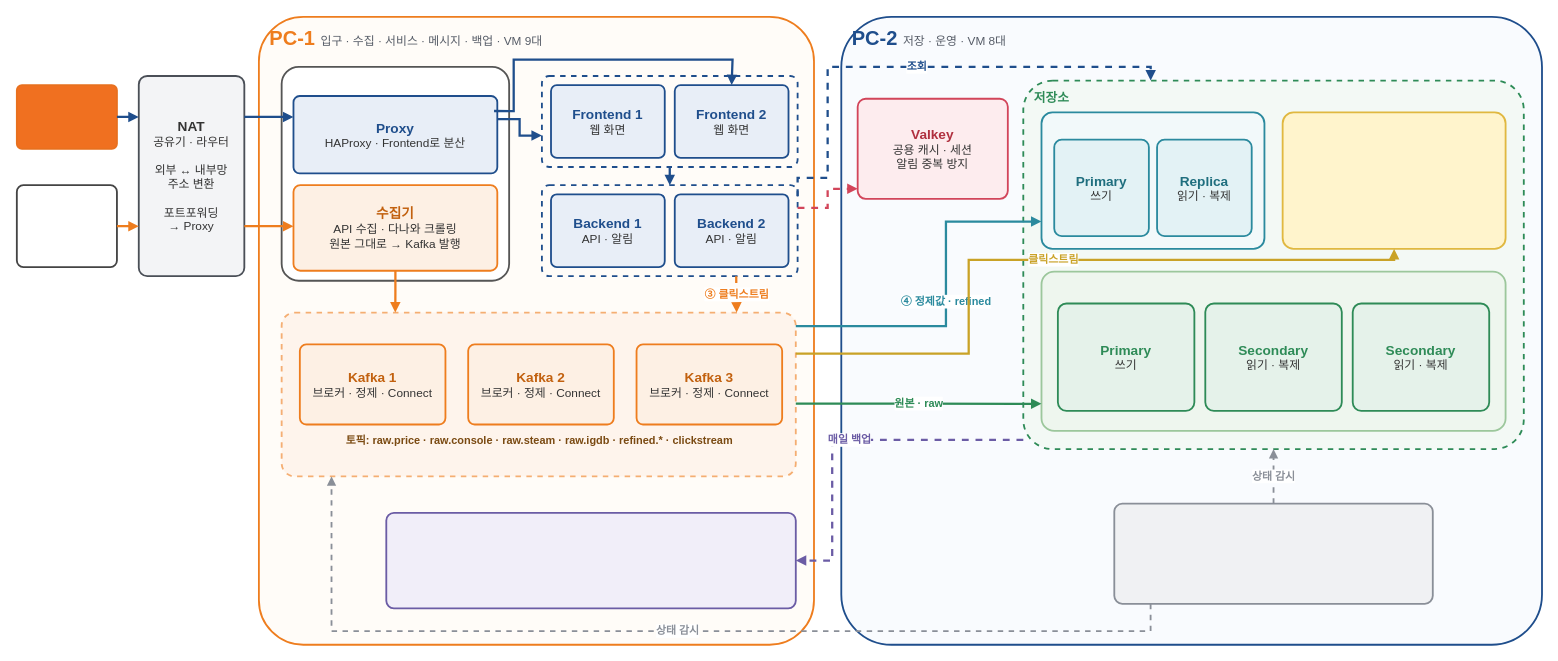
The diagram is 1558 pixels wide and 661 high, and some of its shapes have lost their labels. The shapes that lost their labels are listed below. From the top down, each one's box as (x1, y1, x2, y2) in pixels, then its label:
(15, 84, 117, 149): 사용자
(280, 66, 510, 281): Proxy · 수집 서버
(1040, 111, 1265, 249): MariaDB · 가격 이력 · 사용자 · 알림
(1281, 111, 1506, 249): ELK Elasticsearch + Kibana 게임 검색 · 클릭스트림 로그
(15, 184, 117, 268): 외부 API·사이트 ITAD · Steam IGDB · 다나와
(1040, 270, 1506, 431): MongoDB 클러스터 (P-S-S) · 원본 JSON · 리뷰
(280, 311, 796, 477): Kafka Cluster · 브로커 3대 · 정제 프로그램 · Kafka Connect
(385, 511, 796, 609): 백업 서버 MariaDB · MongoDB 매일 새벽 덤프 · 7일 보관 설정 파일은 Git으로 관리
(1113, 502, 1433, 604): 모니터링 Prometheus · Grafana Kafka · DB 상태 감시 → Slack 알림
